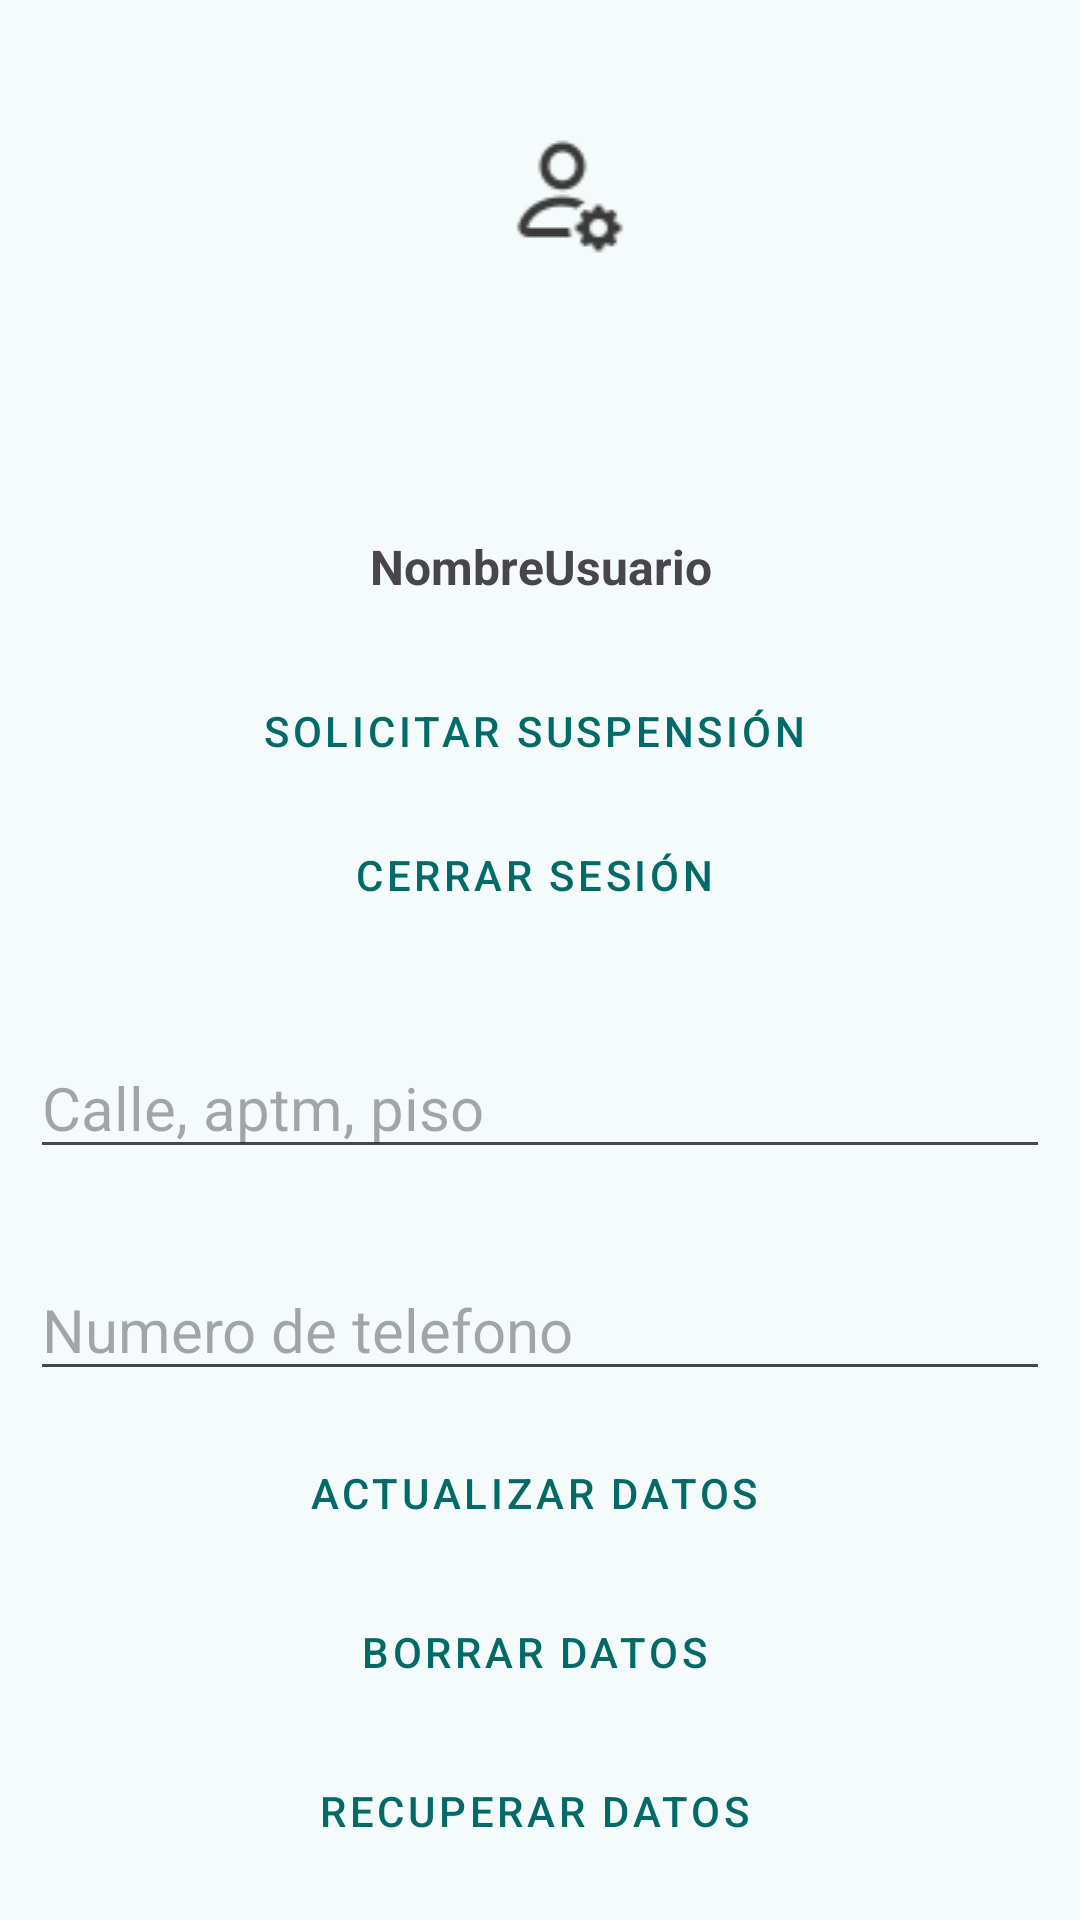

Locate icon controls on the screen. Image size 1080w x 1920h, boxes as (x1, y1, x2, y2).
admin settings male: (517, 140, 623, 253)
